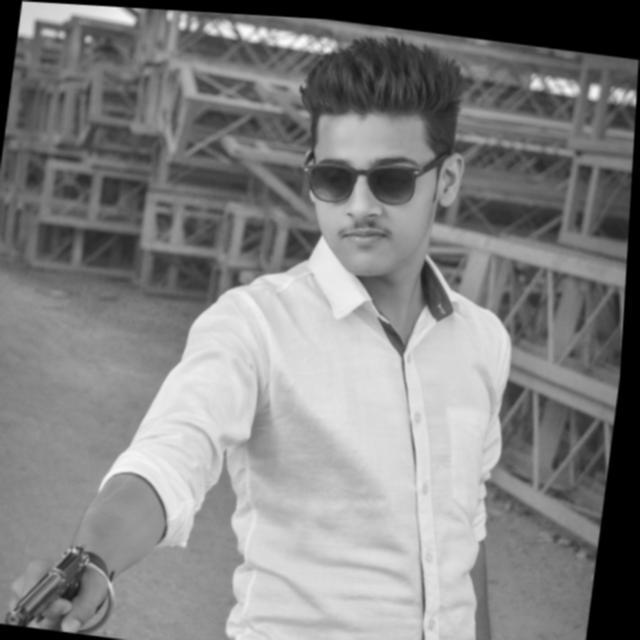weapon: (0, 530, 126, 636)
